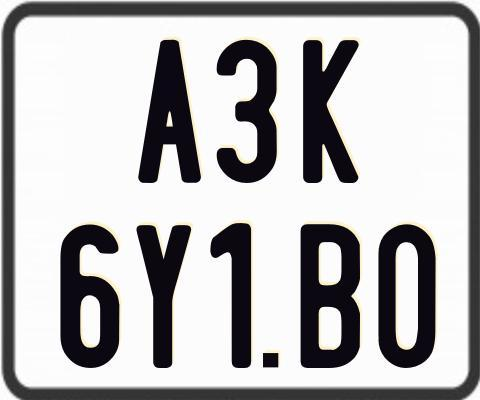0: (376, 223, 437, 372)
1: (207, 220, 254, 365)
3: (215, 39, 278, 185)
6: (59, 222, 123, 367)
A: (137, 40, 203, 189)
B: (300, 224, 362, 368)
K: (303, 39, 363, 183)
Y: (135, 225, 190, 373)
